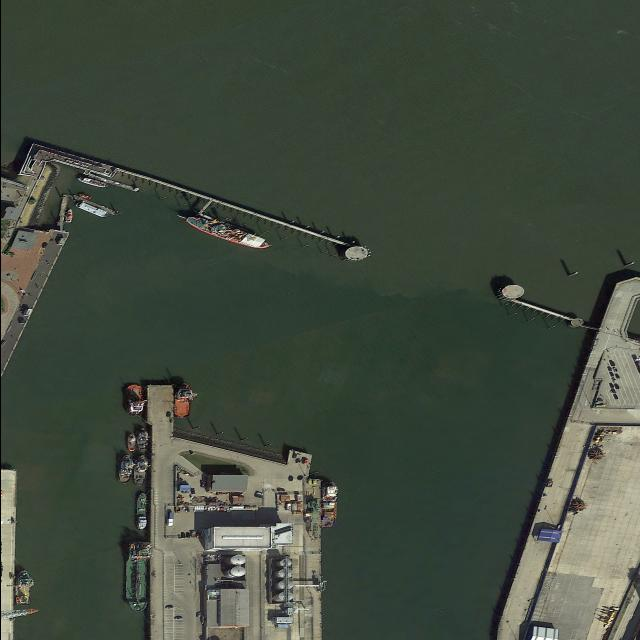ship: (176, 213, 272, 250), (120, 541, 156, 612), (170, 381, 198, 419), (320, 480, 340, 528), (121, 382, 146, 418), (12, 570, 34, 606), (130, 454, 152, 486), (132, 492, 150, 531), (74, 202, 108, 218), (115, 454, 132, 484), (134, 427, 150, 453), (75, 177, 108, 188), (124, 434, 138, 452), (62, 209, 74, 223), (77, 192, 91, 200)
